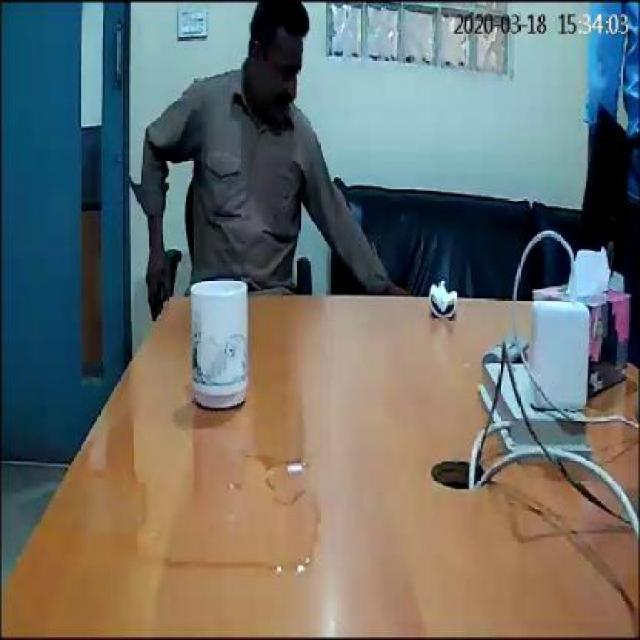spill: (108, 418, 318, 572)
